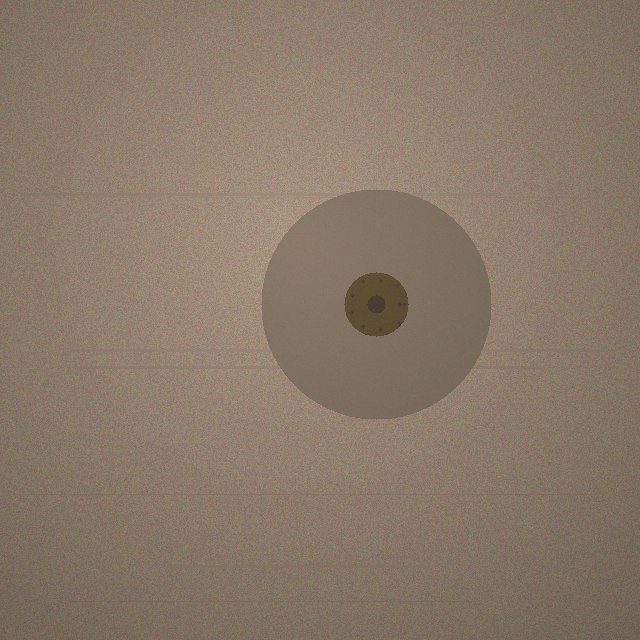cold_weld: (261, 189, 491, 419)
